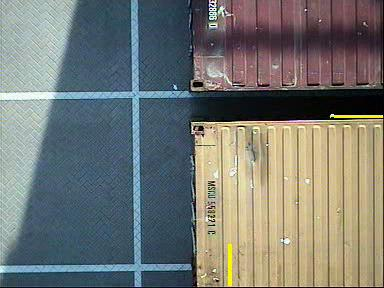groundmarker_2: (107, 219, 164, 259), (108, 72, 164, 112)
